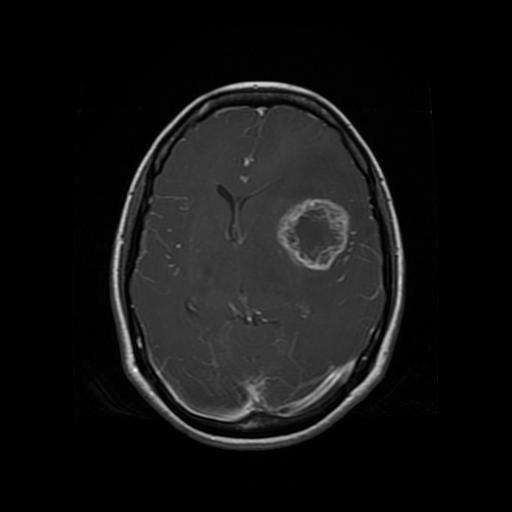Tumour-Glioma: (269, 197, 362, 280)
